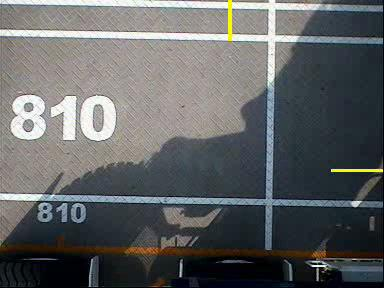groundmarker_2: (198, 50, 230, 112), (197, 226, 229, 288)
